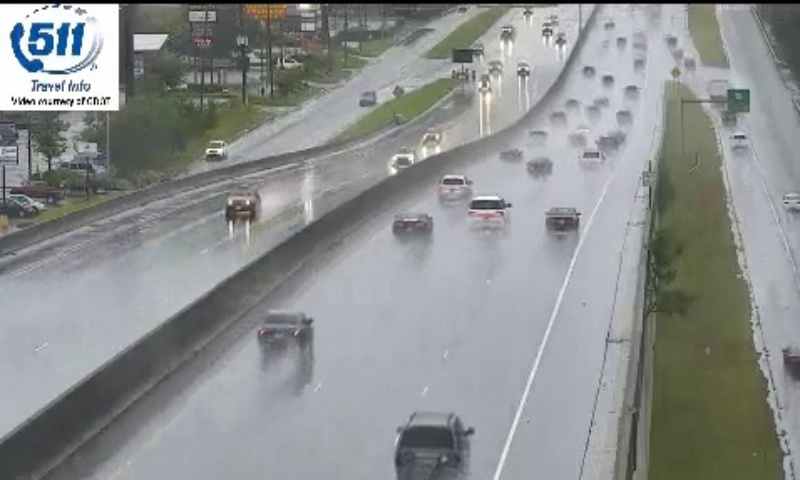car: (394, 411, 468, 478), (257, 310, 312, 352), (466, 196, 508, 232), (438, 175, 471, 203), (392, 213, 431, 236), (545, 206, 579, 232)
